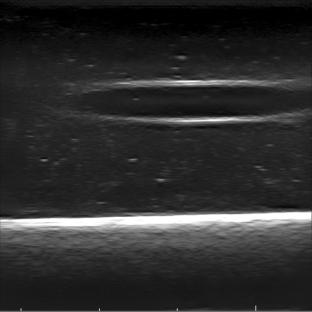vessel: (78, 77, 311, 126)
